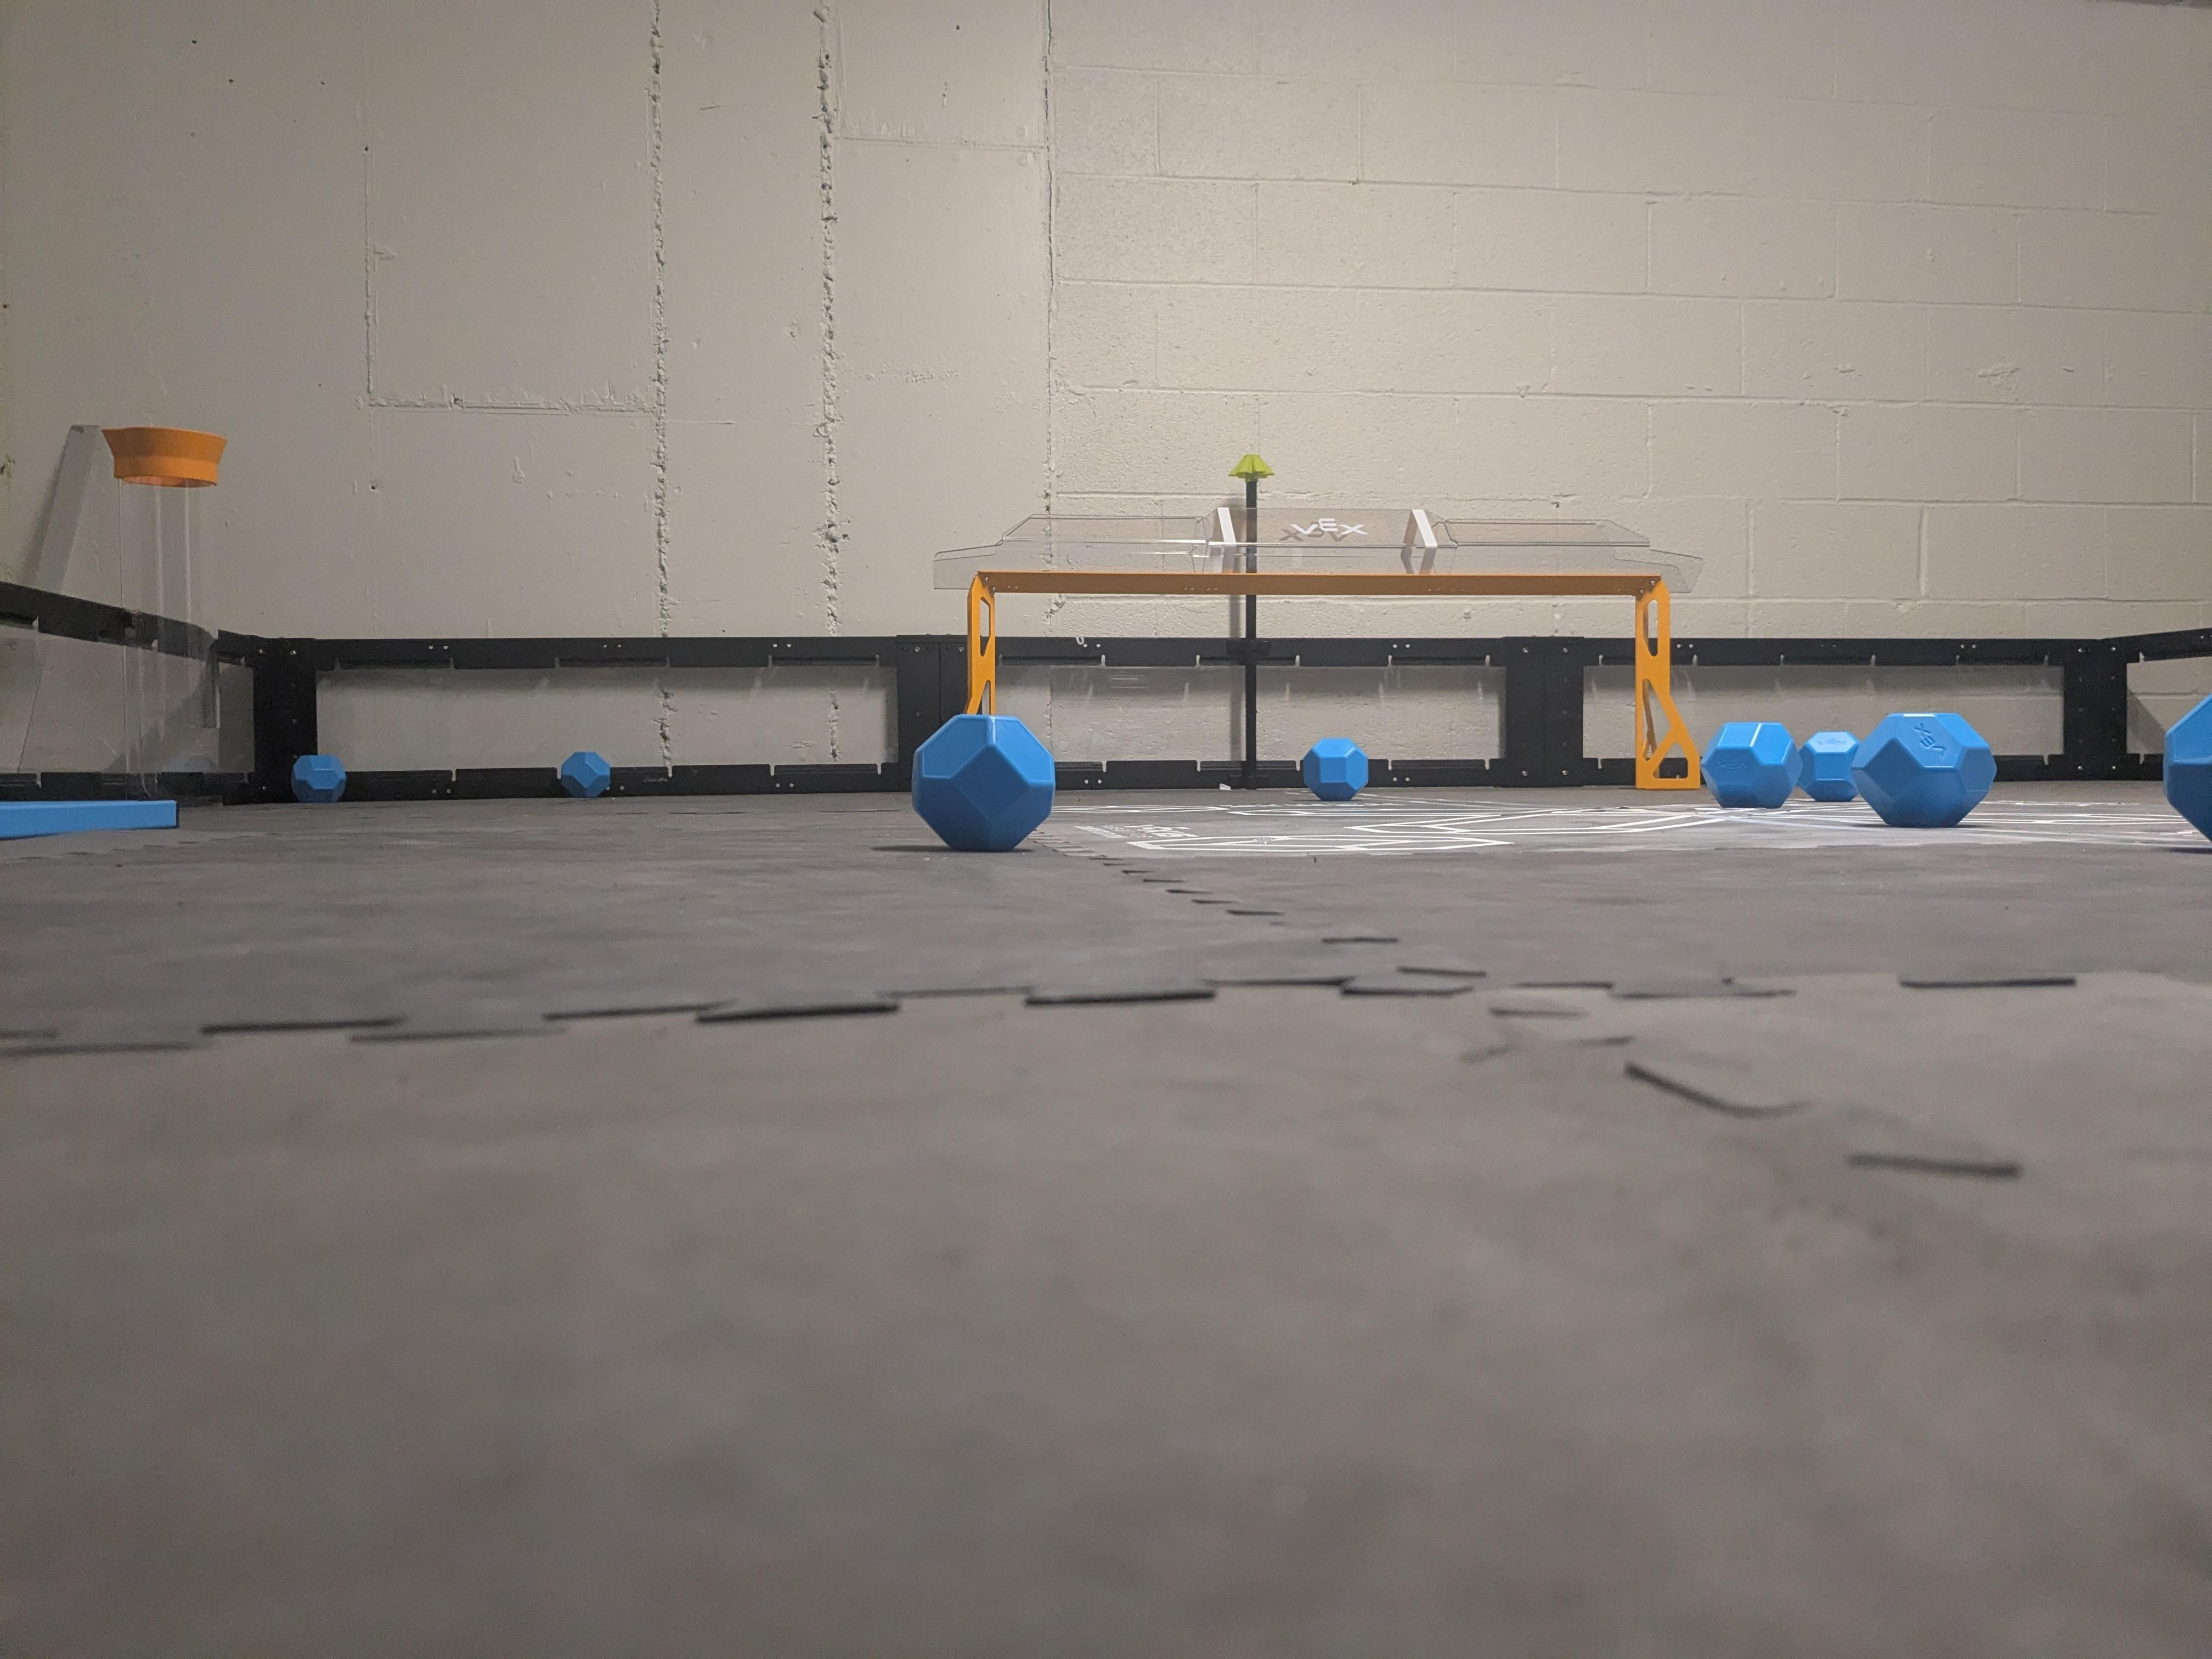Vex-Pieces-BLUE: (1717, 713, 1989, 824), (911, 716, 1054, 847), (2160, 692, 2207, 838), (1299, 739, 1367, 795), (291, 755, 347, 803), (556, 751, 608, 798)
